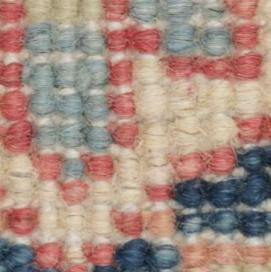Knot: (38, 245, 59, 265), (6, 211, 27, 231), (62, 183, 82, 204), (120, 216, 140, 234), (106, 34, 124, 52), (149, 185, 167, 200), (212, 60, 226, 75), (67, 262, 84, 270)
